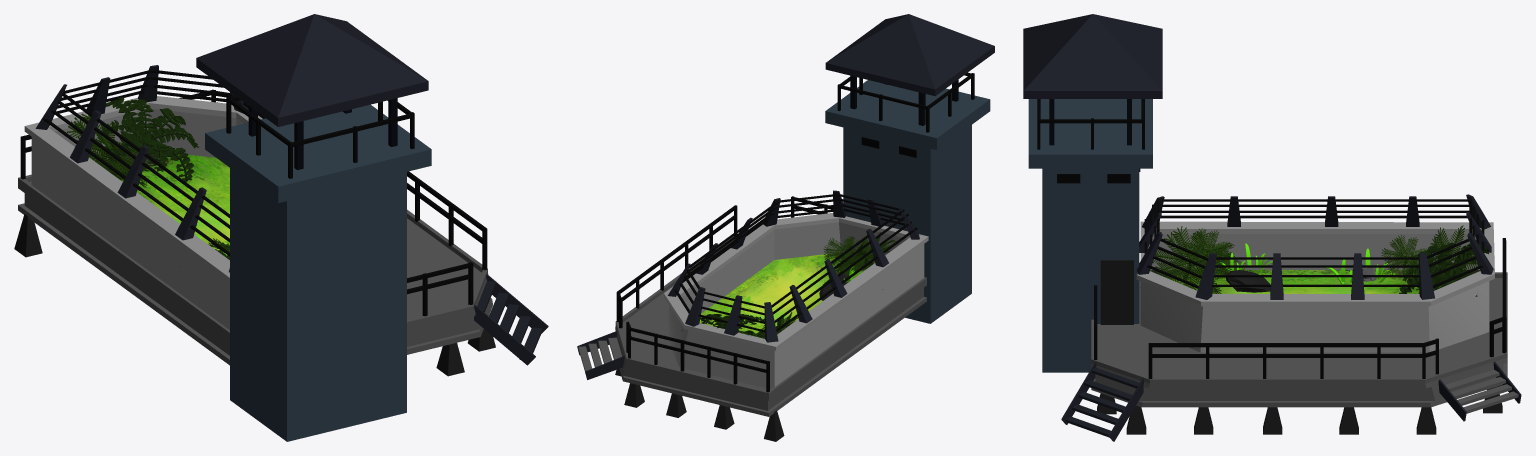
Rendered from Cage_1.fbx.
3 renders of one model, left to right at view 1: azimuth 30°, elevation 25°; view 2: azimuth 150°, elevation 25°; view 3: azimuth 270°, elevation 25°, orthographic. The views are drawn at different scales.
Parts seen in each view (by area): view 1: Cage_1; view 2: Cage_1; view 3: Cage_1.
Boxes of the visible parts, x1,y1,x2,y2 form: Cage_1: (14,14,548,441); Cage_1: (577,14,994,441); Cage_1: (1023,14,1521,441).
Size of the model in its own units: 20.21 by 23.87 by 31.96.
